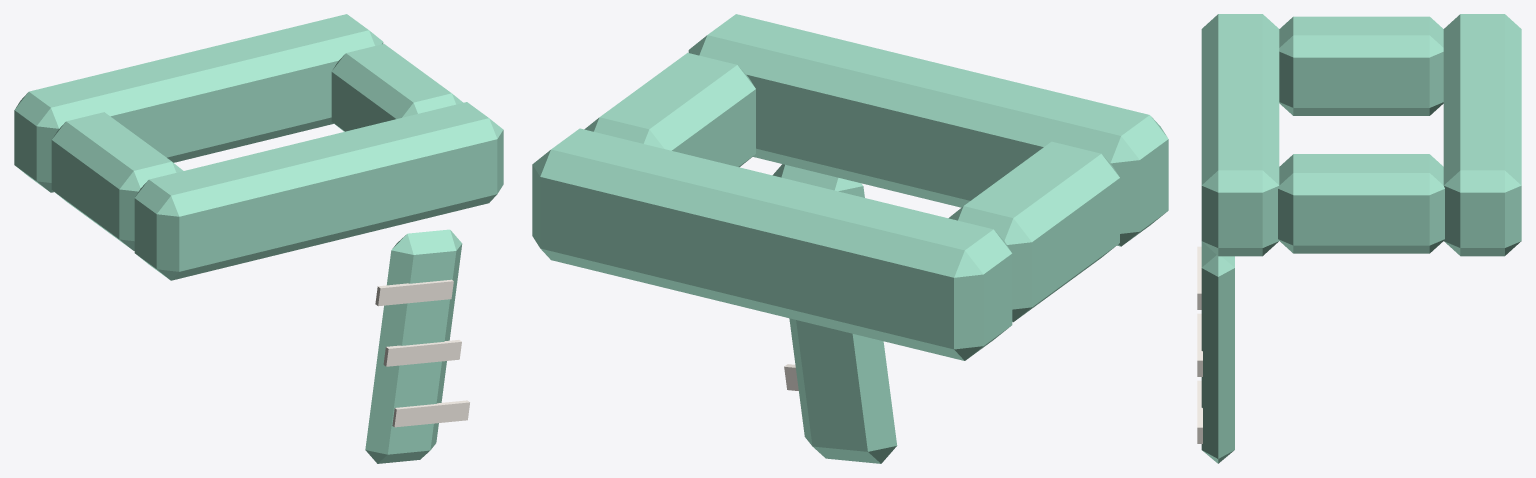
The model's file is CleanACat_NPC_Scarf.fbx.
3 views of the same model, side by side, from view 1: azimuth 30°, elevation 25°; view 2: azimuth 150°, elevation 25°; view 3: azimuth 270°, elevation 25° (orthographic). The views are drawn at different scales.
Parts seen in each view (by area): view 1: CleanACat_NPC_Scarf; view 2: CleanACat_NPC_Scarf; view 3: CleanACat_NPC_Scarf.
Part boxes in pixels (<box>): CleanACat_NPC_Scarf: <box>14,14,503,463</box>; CleanACat_NPC_Scarf: <box>532,14,1168,463</box>; CleanACat_NPC_Scarf: <box>1197,14,1521,463</box>.
Bounding box in the file's own units: 1.45 × 1.3 × 1.16.
Materials: 1 (1 with a texture image).
